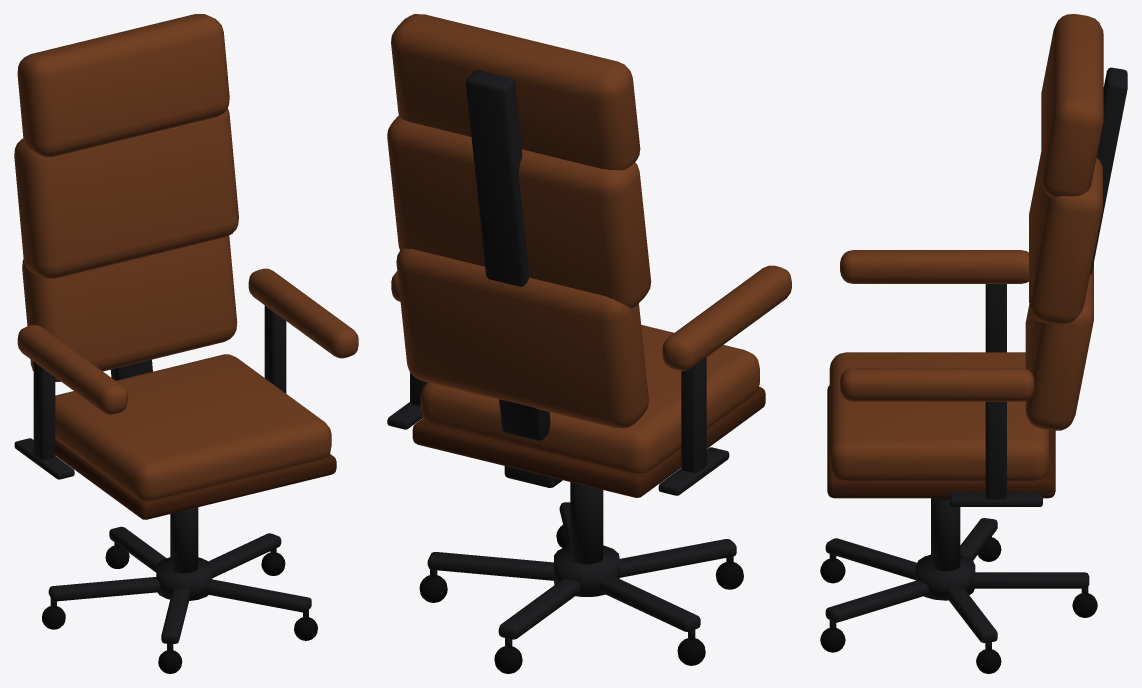
The model's file is frank_chair.glb.
3 views of the same model, side by side, from view 1: azimuth 30°, elevation 25°; view 2: azimuth 150°, elevation 25°; view 3: azimuth 270°, elevation 25° (orthographic). The views are drawn at different scales.
Visible parts, largest first — view 1: Chair_ChairLeather, Chair_ChairMetal, Chair_ChairLeatherDark, Chair_ChairRubber; view 2: Chair_ChairLeather, Chair_ChairMetal, Chair_ChairLeatherDark, Chair_ChairRubber; view 3: Chair_ChairLeather, Chair_ChairMetal, Chair_ChairLeatherDark, Chair_ChairRubber.
Part boxes in pixels (x1=…): Chair_ChairLeather: x1=14, y1=14, x2=358, y2=500; Chair_ChairMetal: x1=14, y1=305, x2=311, y2=652; Chair_ChairLeatherDark: x1=55, y1=439, x2=336, y2=519; Chair_ChairRubber: x1=42, y1=546, x2=317, y2=673; Chair_ChairLeather: x1=387, y1=14, x2=791, y2=473; Chair_ChairMetal: x1=387, y1=70, x2=736, y2=648; Chair_ChairLeatherDark: x1=412, y1=386, x2=765, y2=497; Chair_ChairRubber: x1=419, y1=525, x2=743, y2=673; Chair_ChairLeather: x1=829, y1=14, x2=1103, y2=480; Chair_ChairMetal: x1=825, y1=67, x2=1127, y2=651; Chair_ChairLeatherDark: x1=827, y1=385, x2=1055, y2=498; Chair_ChairRubber: x1=820, y1=537, x2=1097, y2=673.
Bounding box in the file's own units: 0.735 × 1.46 × 0.728.
